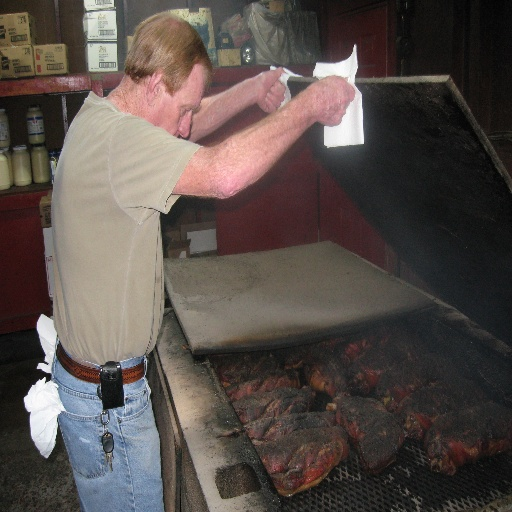hand: (250, 61, 364, 151), (251, 66, 288, 113)
